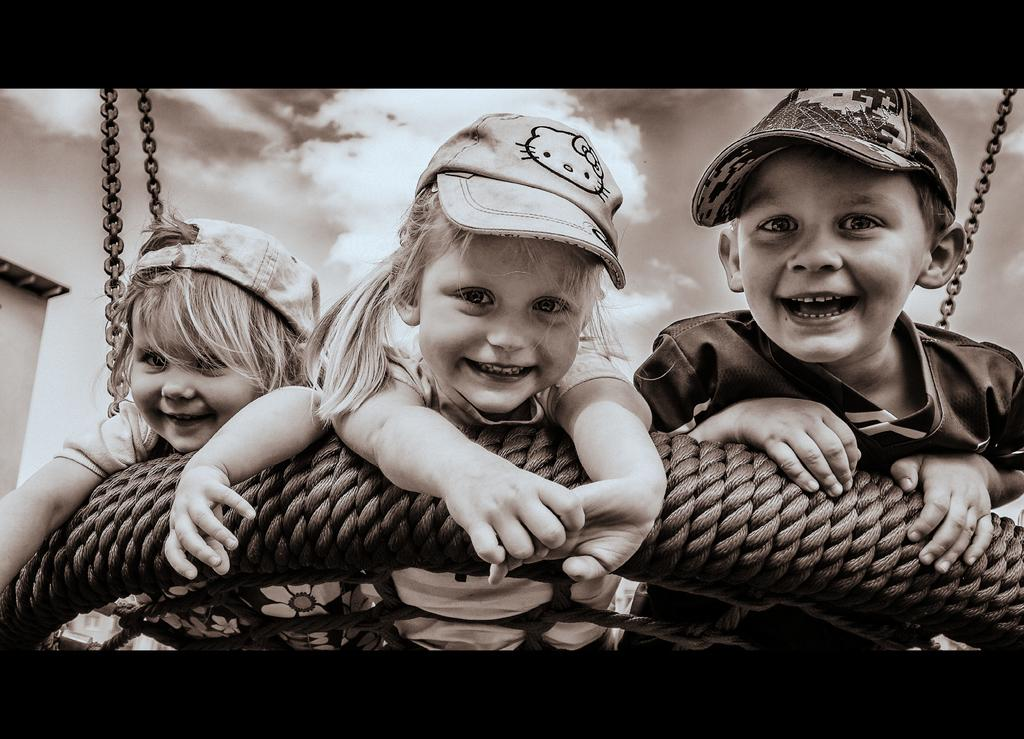Hat: (414, 109, 626, 287), (690, 86, 959, 225), (127, 213, 322, 334)
